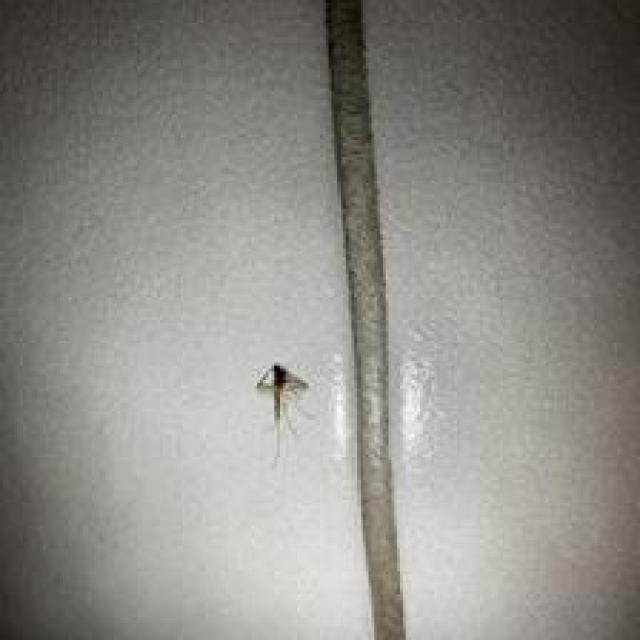Culex: (254, 362, 309, 462)
